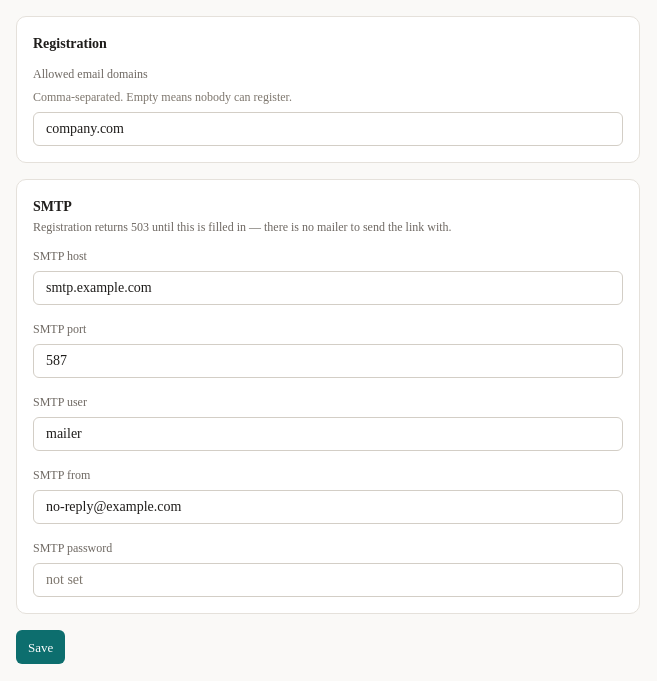
Test case: AccessForm › hides Saved once the admin types an SMTP password, even though the hook still thinks it saved
The width and height of the screenshot is (657, 681).
(page scrolled)
Step 1. Click the button "Save" → (41, 647), box [16,630,65,664]
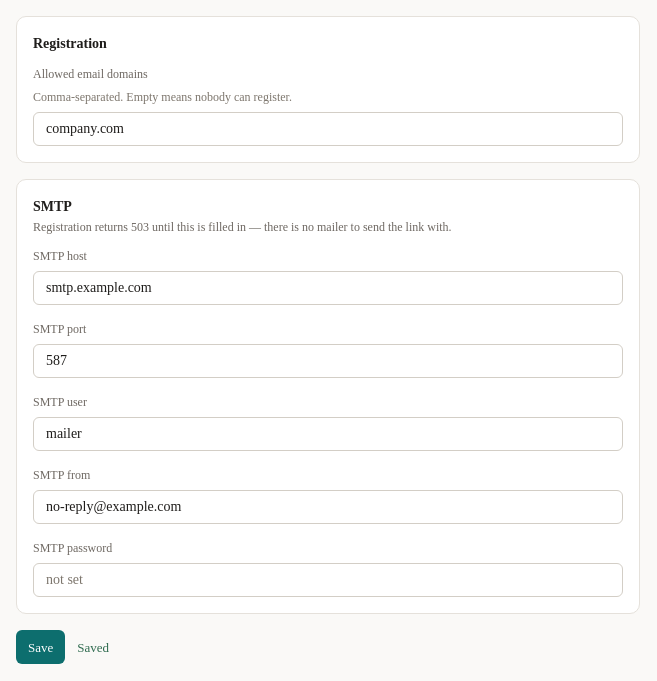
Expected: the text "Saved" is shown, [77,638,109,656]
Step 2. Type "typed-secret" into the password field labelled "SMTP password" → (328, 580), box [33,563,623,597]
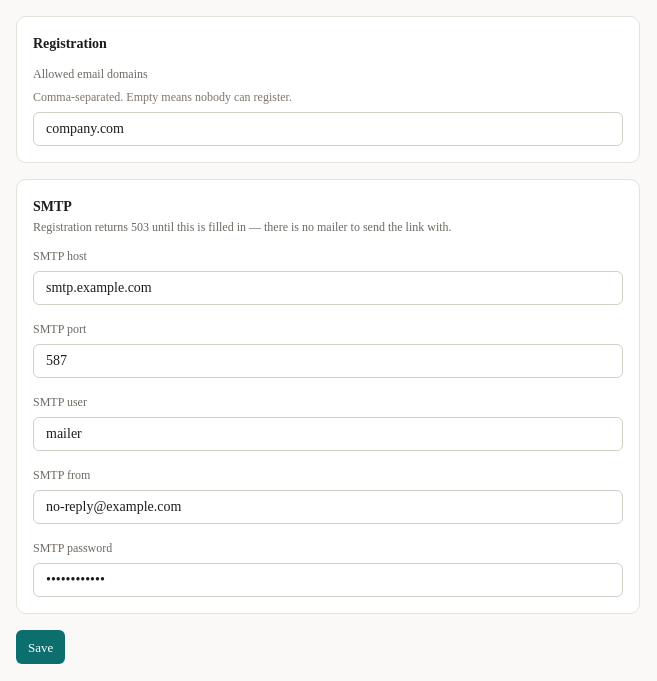
Expected: the text "Saved" is gone
